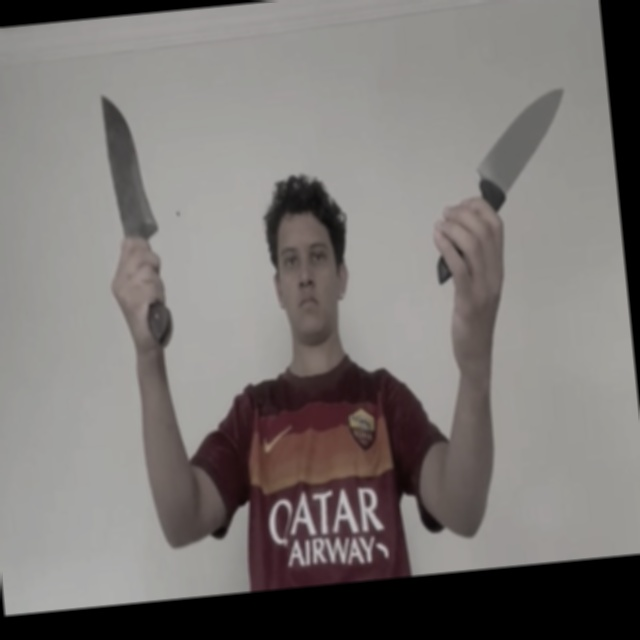Sharp-Object: (467, 81, 573, 183), (98, 92, 156, 235)
